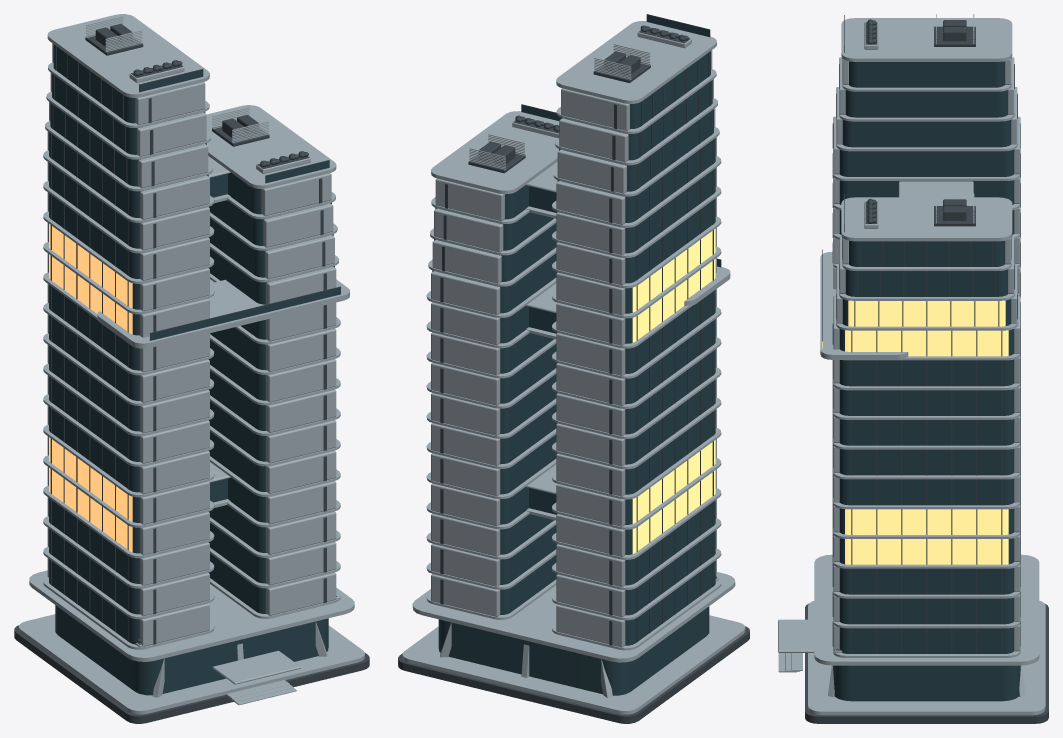
Rendered from Nocturne_SplitTower_Night_B.fbx.
The picture shows the model from 3 angles, left to right: view 1: azimuth 30°, elevation 25°; view 2: azimuth 150°, elevation 25°; view 3: azimuth 270°, elevation 25°; orthographic projection. The views are drawn at different scales.
Visible parts, largest first — view 1: Nocturne_SplitTower_Night_B; view 2: Nocturne_SplitTower_Night_B; view 3: Nocturne_SplitTower_Night_B.
Boxes of the visible parts, x1=… form: Nocturne_SplitTower_Night_B: x1=14, y1=14, x2=369, y2=723; Nocturne_SplitTower_Night_B: x1=398, y1=14, x2=749, y2=723; Nocturne_SplitTower_Night_B: x1=778, y1=14, x2=1048, y2=723.
Bounding box in the file's own units: 29 × 72.14 × 28.85.
